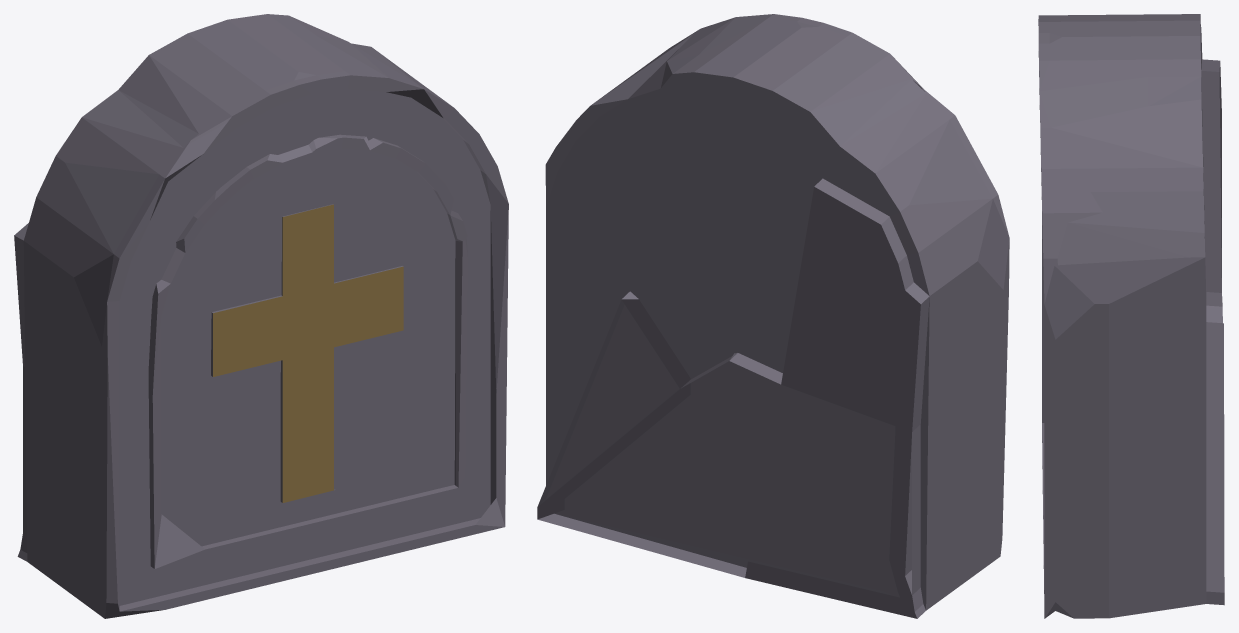
The model's file is tomb_01.glb.
3 renders of one model, left to right at view 1: azimuth 30°, elevation 25°; view 2: azimuth 150°, elevation 25°; view 3: azimuth 270°, elevation 25°, orthographic. The views are drawn at different scales.
Visible parts, largest first — view 1: tomb2; view 2: tomb2; view 3: tomb2.
Boxes of the visible parts, bbox=[...] form: tomb2: bbox=[14, 14, 508, 618]; tomb2: bbox=[537, 14, 1009, 618]; tomb2: bbox=[1038, 14, 1224, 618].
Size of the model in its own units: 1.34 by 1.57 by 0.5431.
